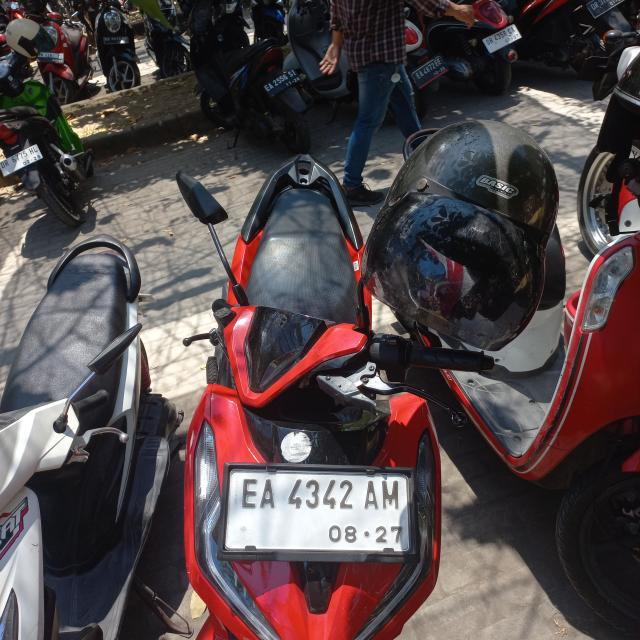plate: (227, 462, 413, 560), (0, 144, 44, 178), (482, 23, 522, 54), (263, 67, 301, 98), (412, 56, 447, 87)
